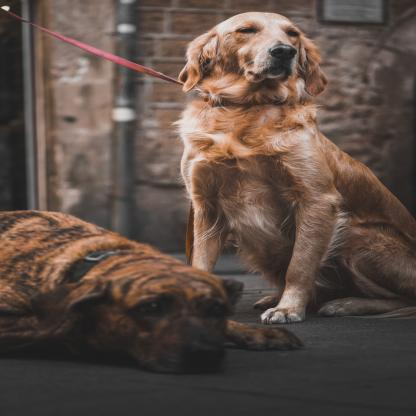dog: (176, 10, 416, 321)
